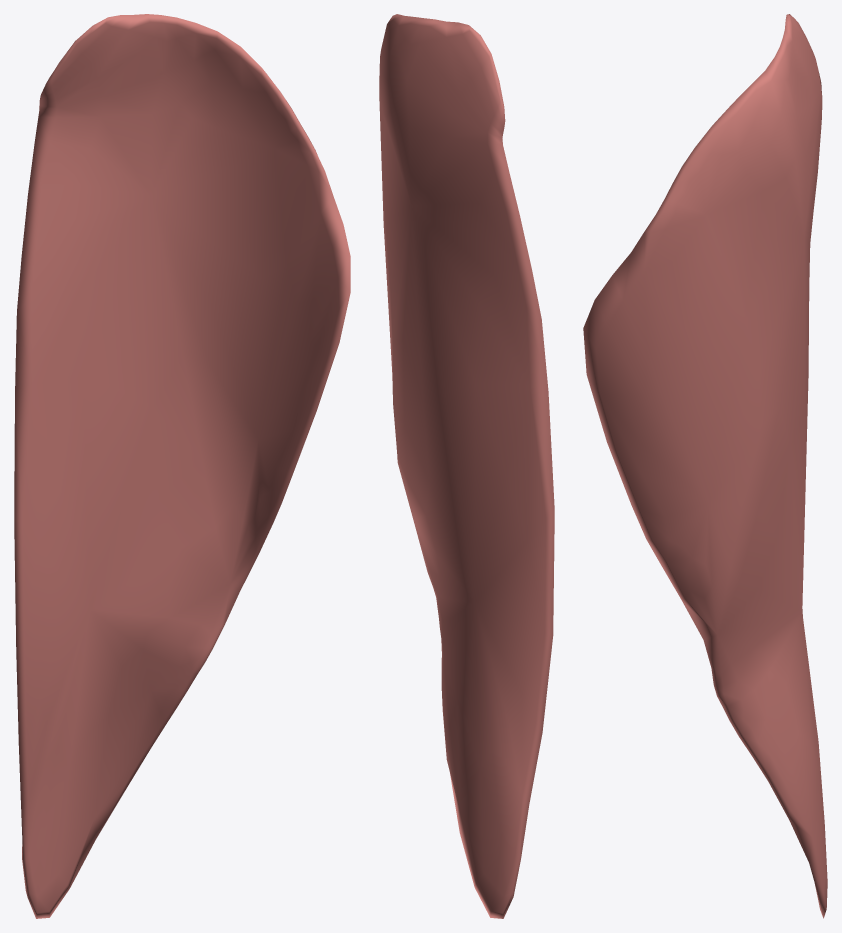
3 views of the same model, side by side, from view 1: azimuth 30°, elevation 25°; view 2: azimuth 150°, elevation 25°; view 3: azimuth 270°, elevation 25° (orthographic). The views are drawn at different scales.
Parts seen in each view (by area): view 1: ZA_0898e2c769938a9b; view 2: ZA_0898e2c769938a9b; view 3: ZA_0898e2c769938a9b.
Boxes of the visible parts, x1,y1,x2,y2 form: ZA_0898e2c769938a9b: (14, 14, 350, 918); ZA_0898e2c769938a9b: (379, 14, 554, 918); ZA_0898e2c769938a9b: (583, 14, 827, 918).
Bounding box in the file's own units: 0.0141 × 0.0504 × 0.0121.
